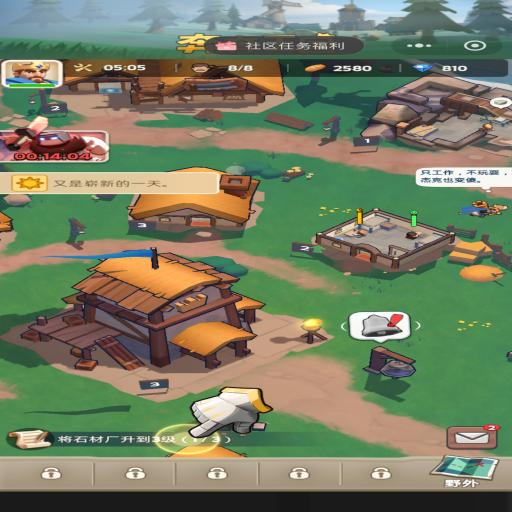newcomer_hand: (188, 386, 272, 436)
